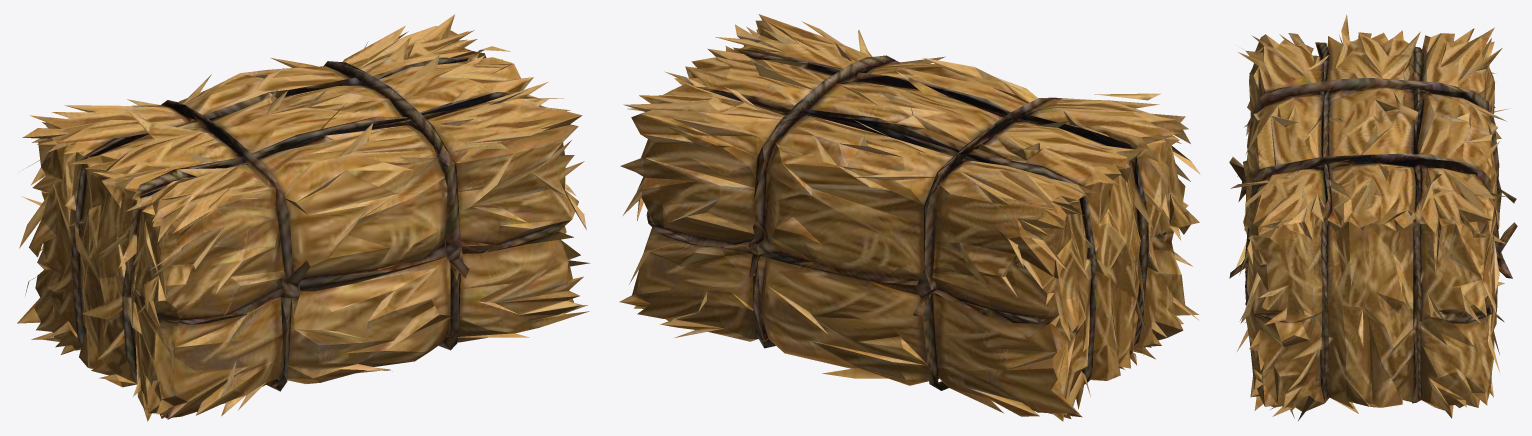
Rendered from hay_bale_3d.glb.
The picture shows the model from 3 angles, left to right: view 1: azimuth 30°, elevation 25°; view 2: azimuth 150°, elevation 25°; view 3: azimuth 270°, elevation 25°; orthographic projection. The views are drawn at different scales.
Visible parts, largest first — view 1: Mesh_0; view 2: Mesh_0; view 3: Mesh_0.
Boxes of the visible parts, x1,y1,x2,y2 form: Mesh_0: (17,14,590,421); Mesh_0: (619,14,1200,421); Mesh_0: (1229,14,1517,420).
Size of the model in its own units: 1.3 by 0.6875 by 0.7721.
1 material, 1 textured.
